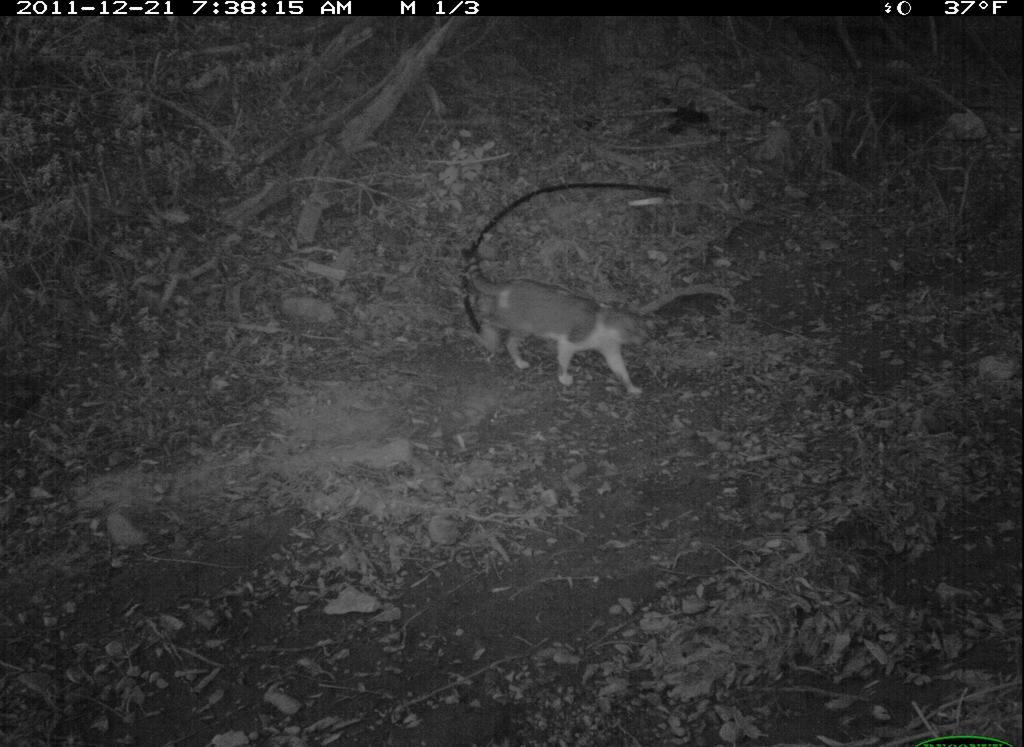cat: (455, 246, 675, 408)
